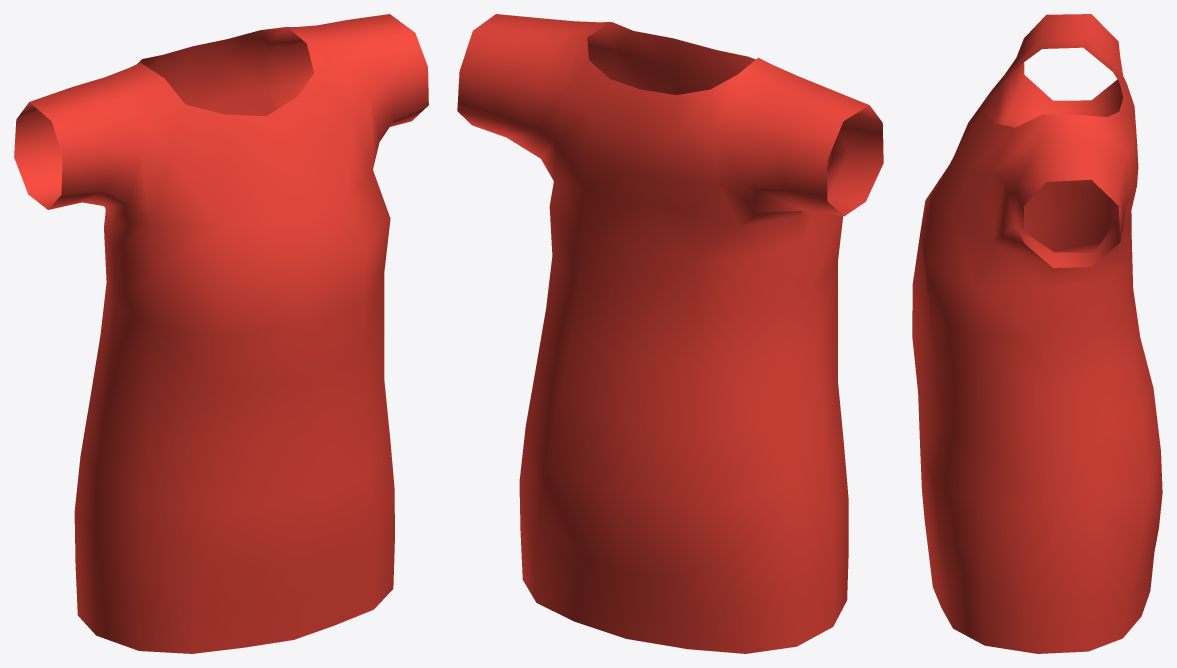
File: Outerwear_Red_007.glb
The picture shows the model from 3 angles, left to right: view 1: azimuth 30°, elevation 25°; view 2: azimuth 150°, elevation 25°; view 3: azimuth 270°, elevation 25°; orthographic projection. The views are drawn at different scales.
Parts seen in each view (by area): view 1: Outerwear_Red_007; view 2: Outerwear_Red_007; view 3: Outerwear_Red_007.
Boxes of the visible parts, left/top/right/bottom form: Outerwear_Red_007: left=14, top=14, right=428, bottom=653; Outerwear_Red_007: left=457, top=14, right=883, bottom=653; Outerwear_Red_007: left=912, top=14, right=1162, bottom=653.
Size of the model in its own units: 0.6011 by 0.8466 by 0.3763.
Materials: 1 (1 with a texture image).
